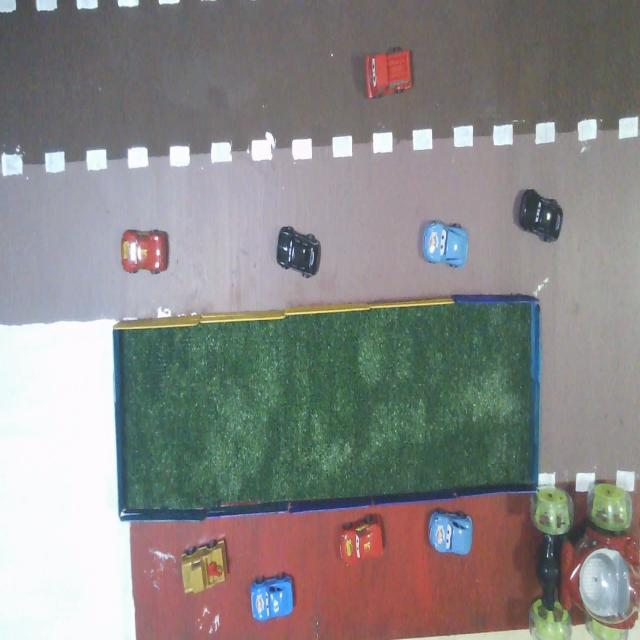emergency car: (529, 483, 639, 639)
small cars: (182, 540, 227, 593), (365, 48, 412, 98), (519, 190, 563, 241), (277, 226, 320, 277), (423, 221, 468, 267), (340, 515, 382, 564), (121, 230, 168, 273), (251, 574, 293, 621), (429, 511, 472, 555)
